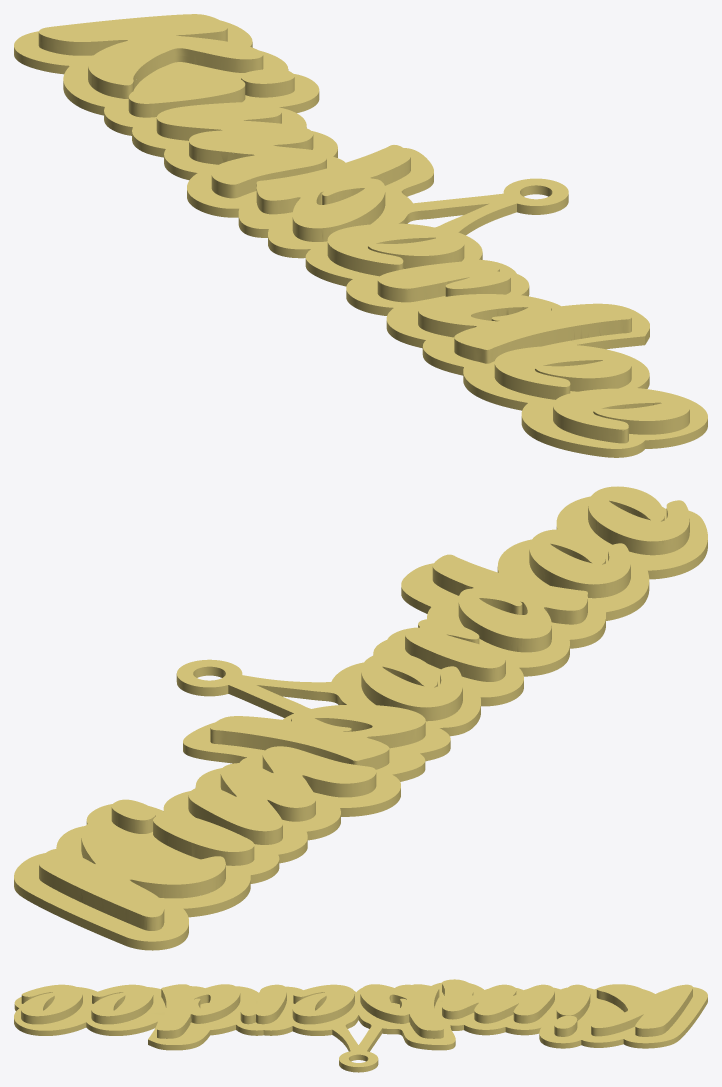
File: kimber.glb
3 views of the same model, one above another, from view 1: azimuth 30°, elevation 25°; view 2: azimuth 150°, elevation 25°; view 3: azimuth 270°, elevation 25° (orthographic). The views are drawn at different scales.
Parts seen in each view (by area): view 1: Renderer Node; view 2: Renderer Node; view 3: Renderer Node.
Boxes of the visible parts, x1,y1,x2,y2 form: Renderer Node: (14,14,707,457); Renderer Node: (14,486,707,950); Renderer Node: (14,979,707,1072).
Size of the model in its own units: 20.65 by 1.53 by 70.67.
